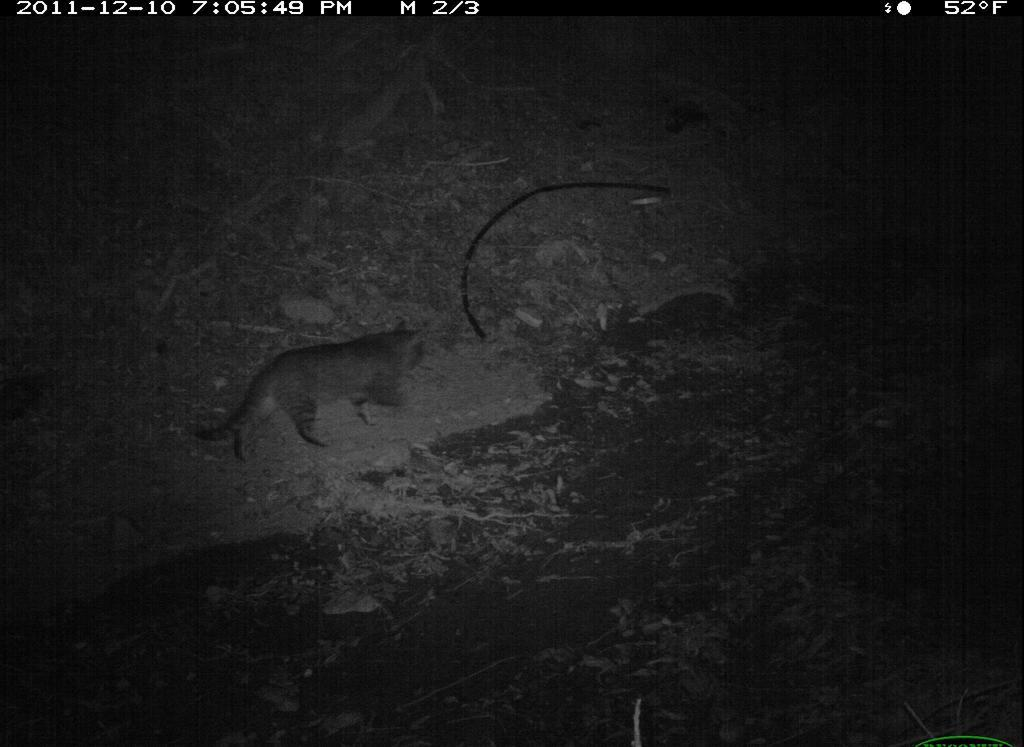cat: (194, 314, 433, 473)
